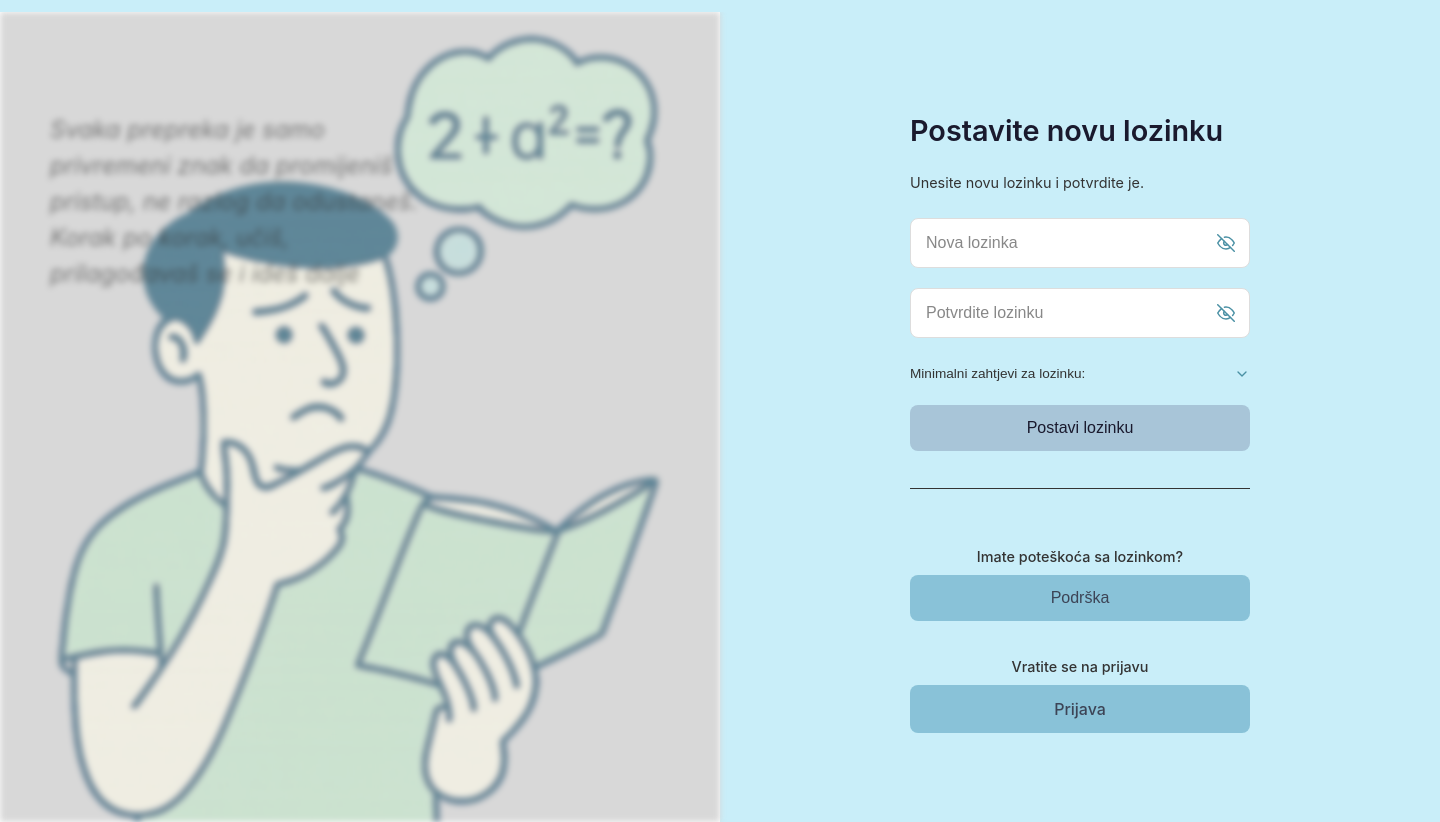
ResetPassword component › Test 1: uspješna promjena lozinke s rubnim uvjetima
In the password field with placeholder "Nova lozinka": (1080, 243) [910,218,1250,268], type "Abcdef1!"
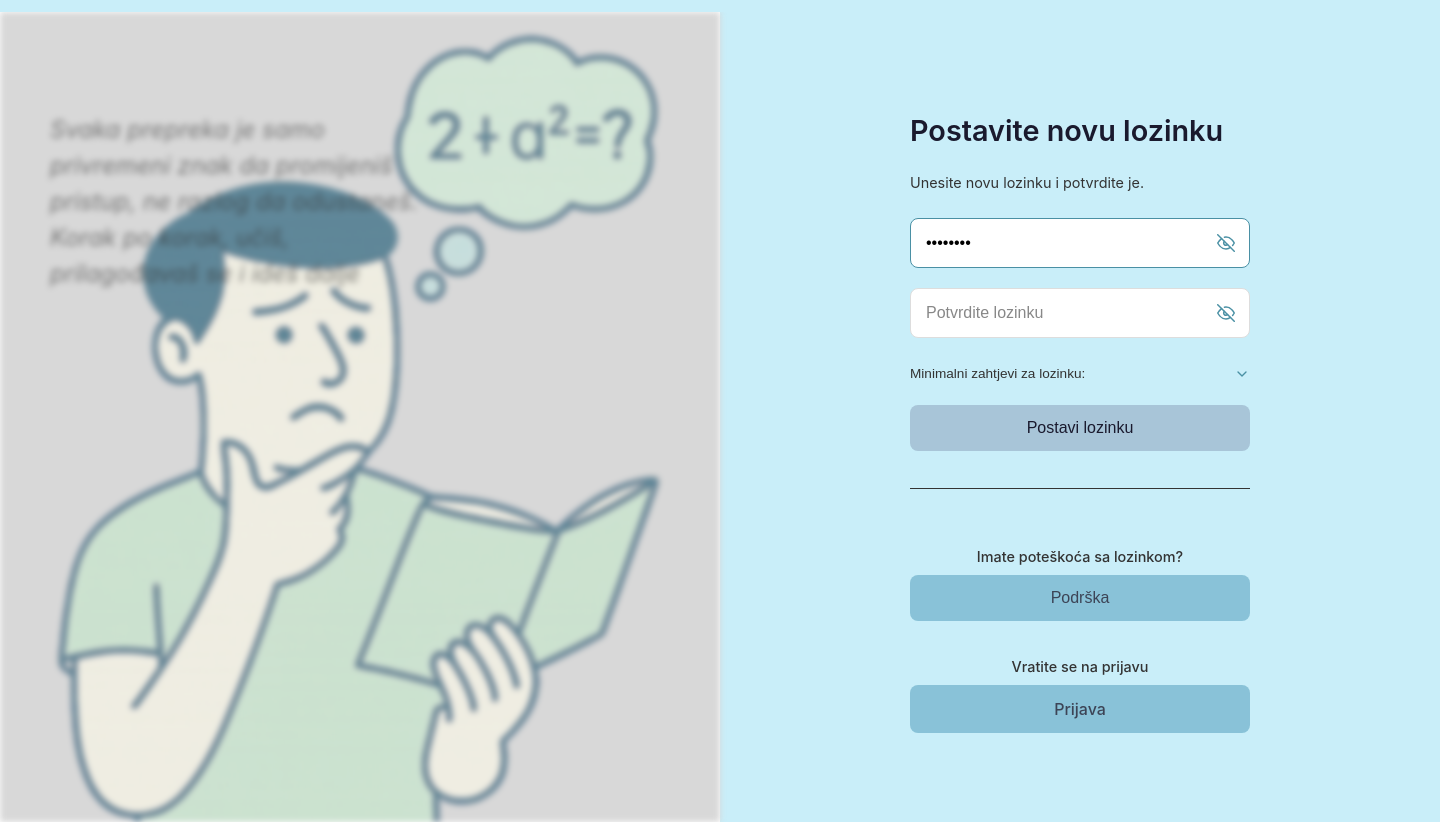
In the password field with placeholder "Potvrdite lozinku": (1080, 313) [910,288,1250,338], type "Abcdef1!"
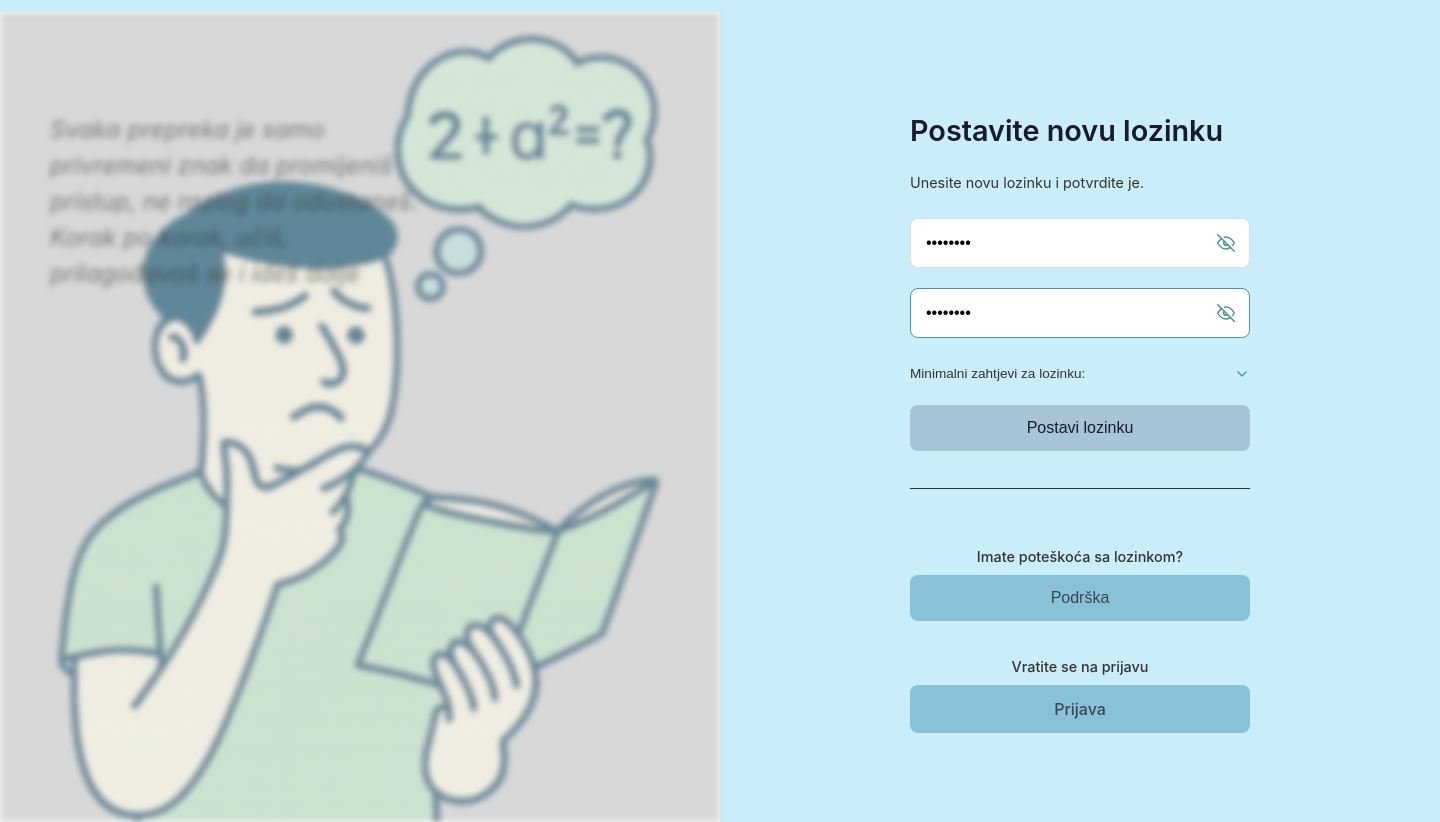
Click the button "Postavi lozinku": (1080, 428) [910,405,1250,451]
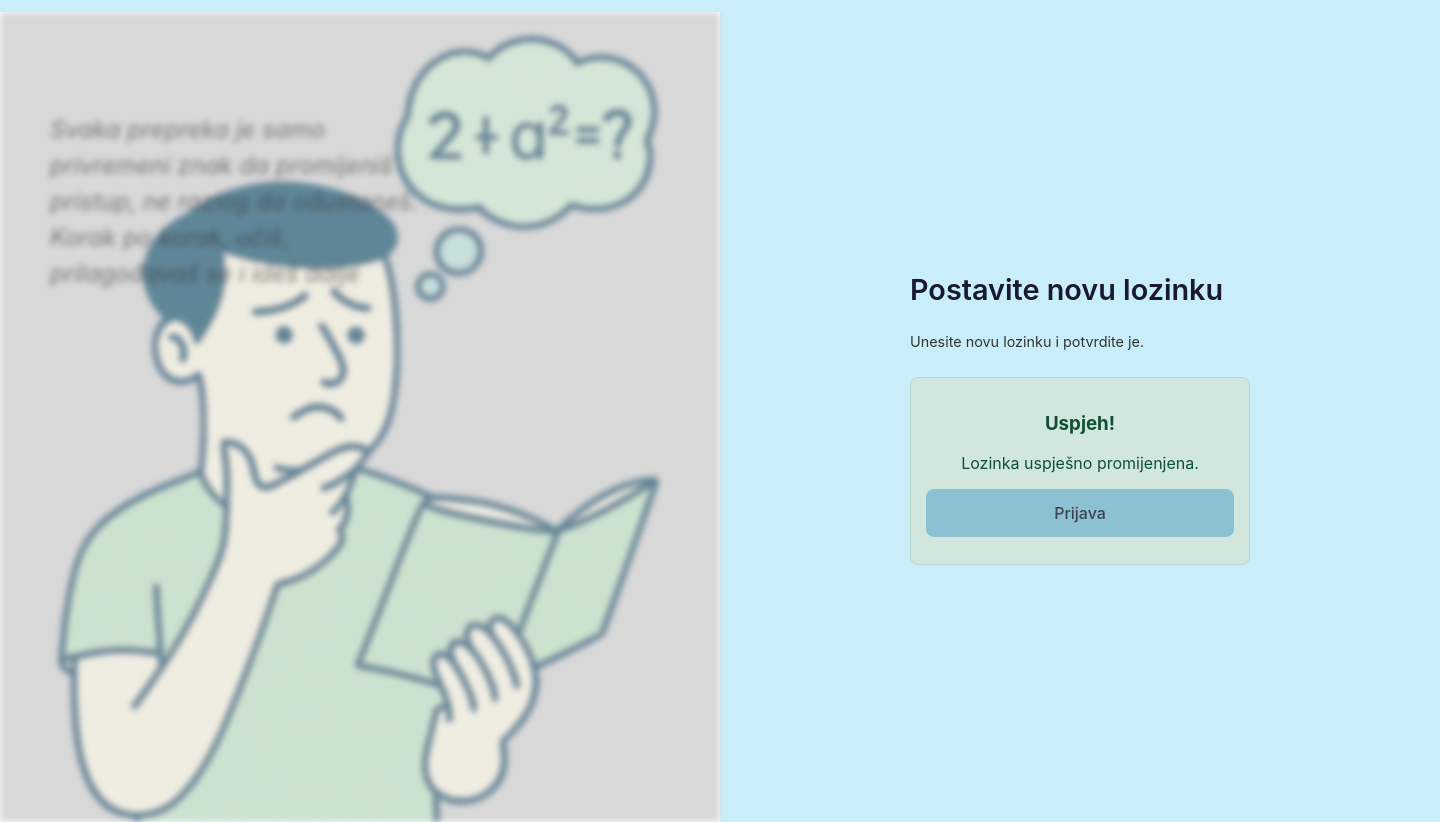
Expected: the heading "Uspjeh!" is shown, [1045,412,1115,435]
Expected: the text "Lozinka uspješno promijenjena." is shown, [961,453,1199,473]
